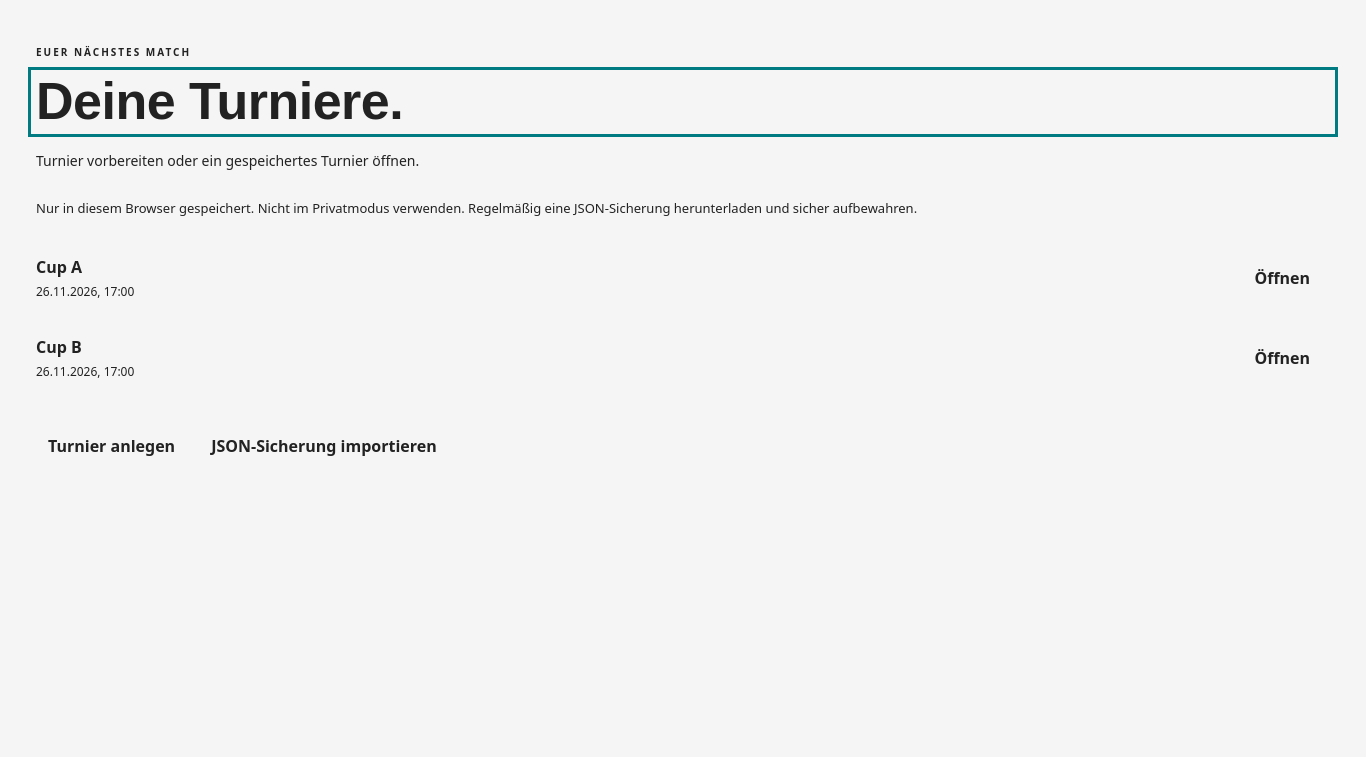
Test: Turniere vorbereiten › öffnet getrennte alte Turniere direkt und ohne Turniercode
Expected: the text "Ort von Cup A" is not shown
Expected: the text "Beschreibung von Cup B" is not shown
Click the button with aria-label "Cup A öffnen".
click(1282, 278)  # box [1234, 254, 1330, 302]
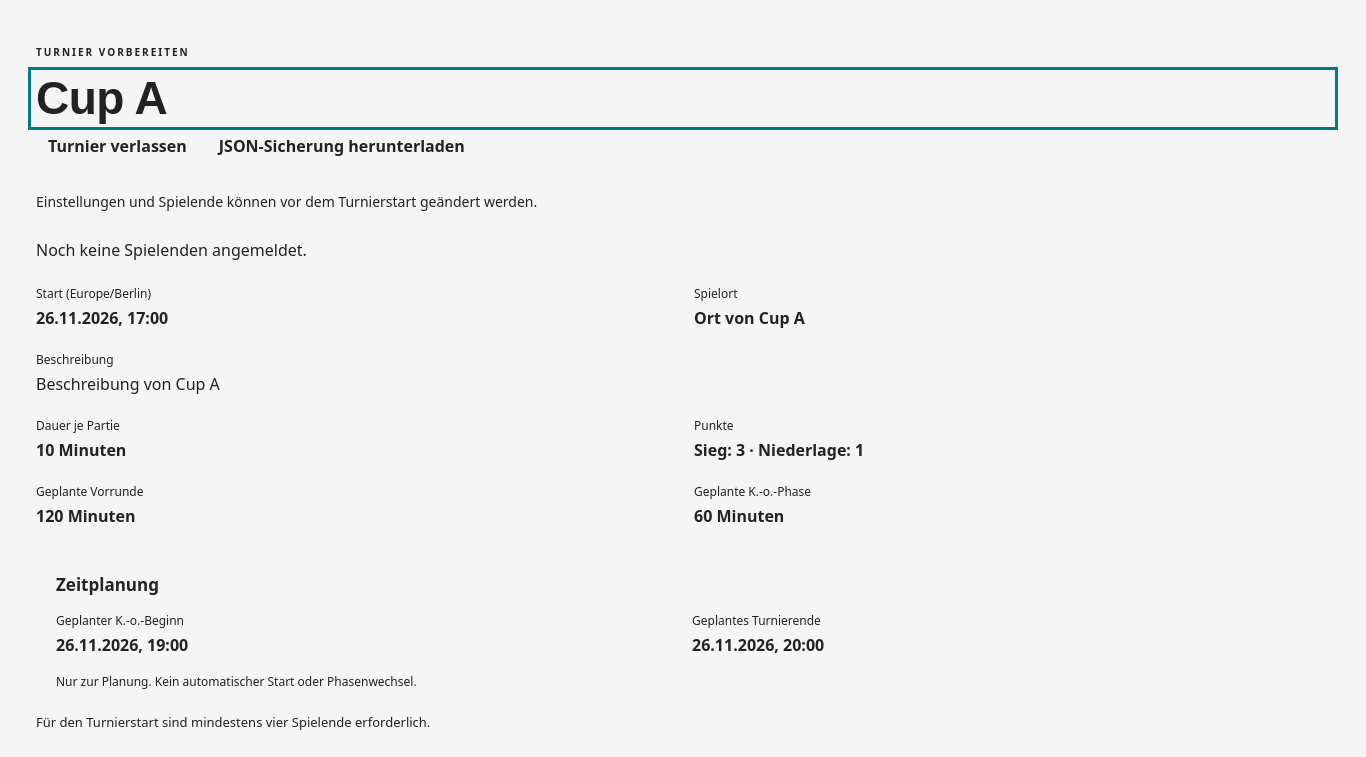
Expected: the text "Ort von Cup B" is not shown
Expected: the text "Ort von Cup A" is shown, [694, 308, 805, 330]
Click the button "Turnier verlassen".
click(117, 146)  # box [36, 122, 199, 170]
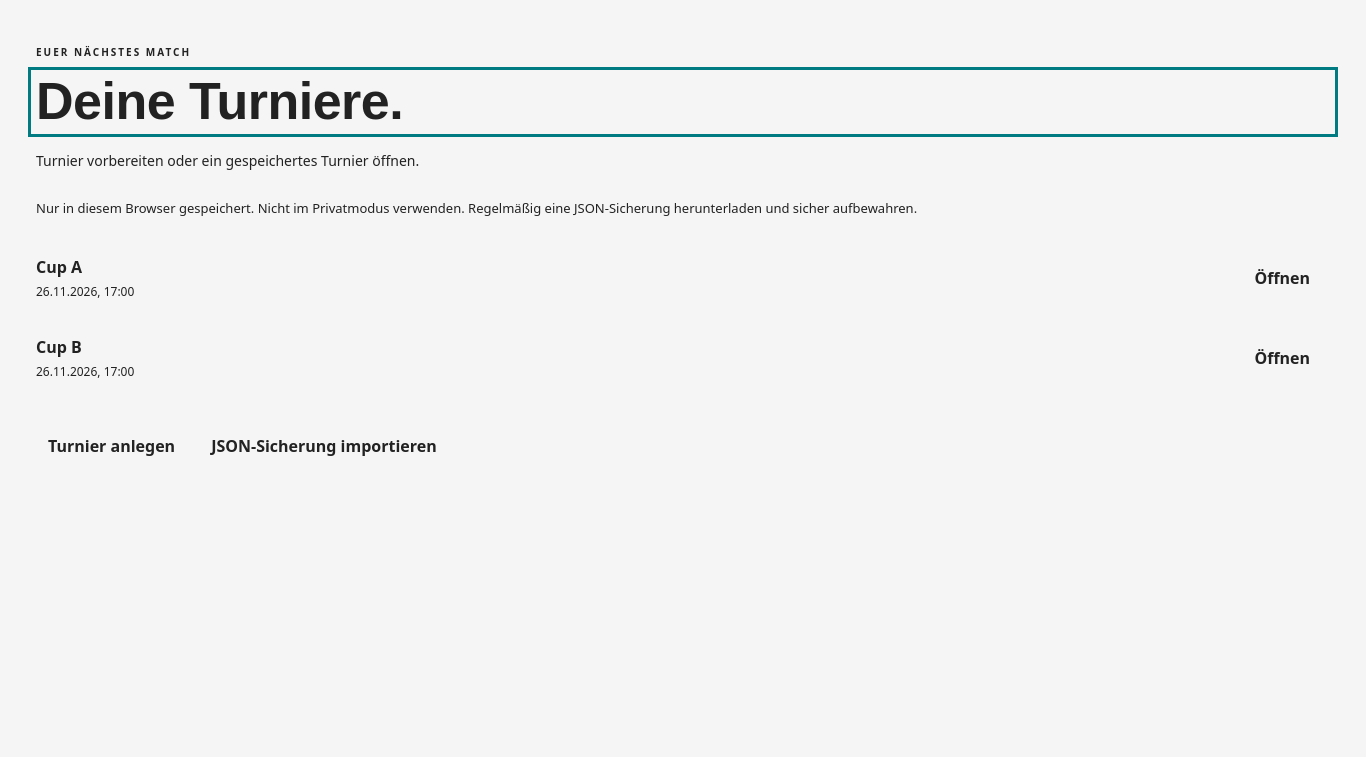
Click the button with aria-label "Cup B öffnen".
click(1282, 358)  # box [1234, 334, 1330, 382]
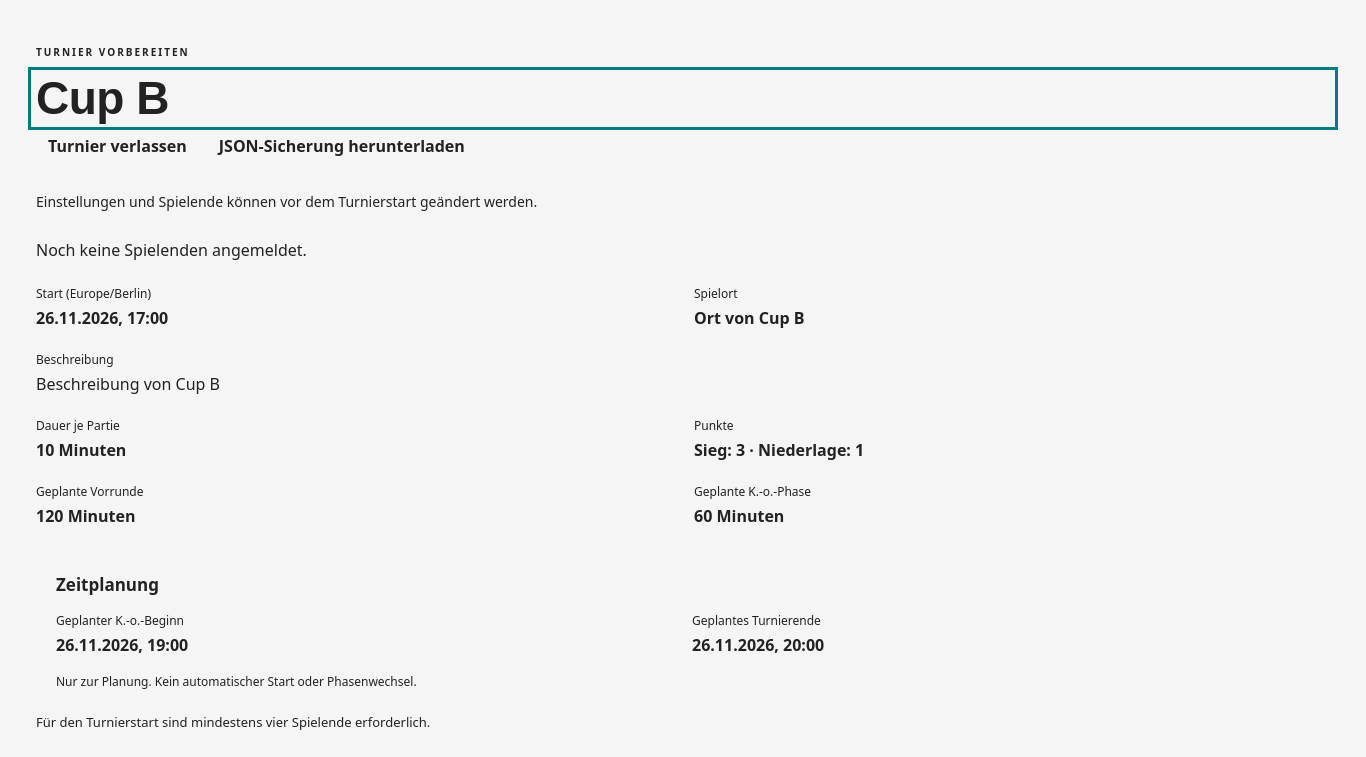
Expected: the text "Ort von Cup B" is shown, [694, 308, 804, 330]
